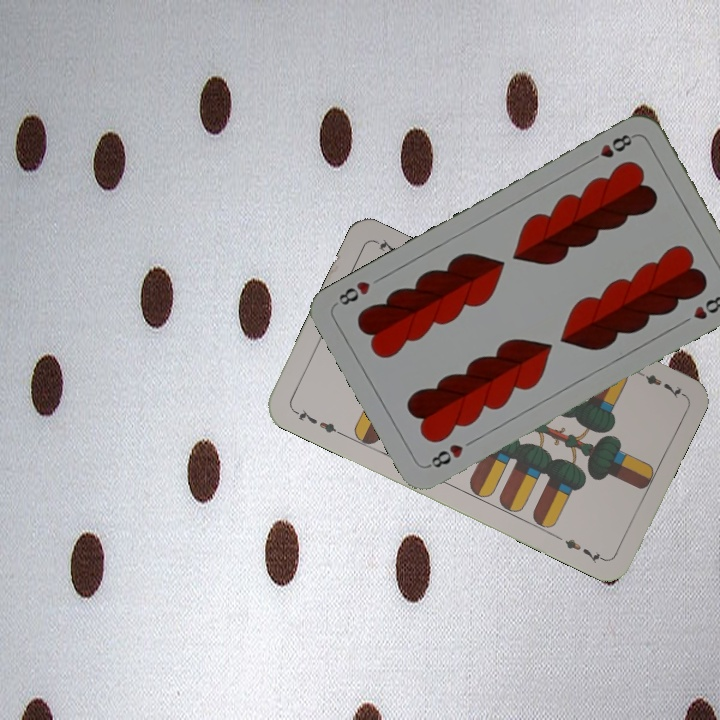E7: (630, 367, 685, 401), (289, 405, 345, 438)
H8: (584, 130, 638, 166), (423, 440, 466, 471)
